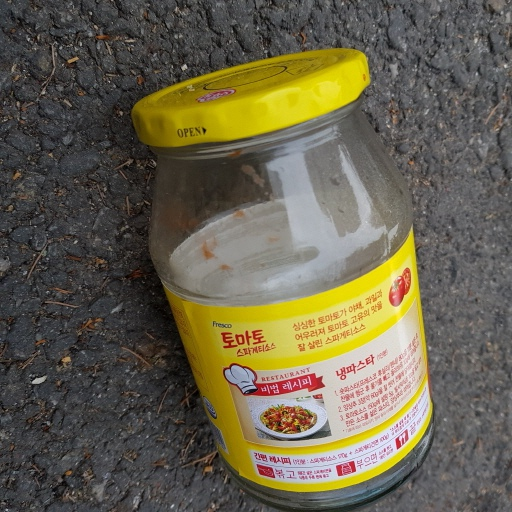Glass_5: (125, 44, 439, 512)
